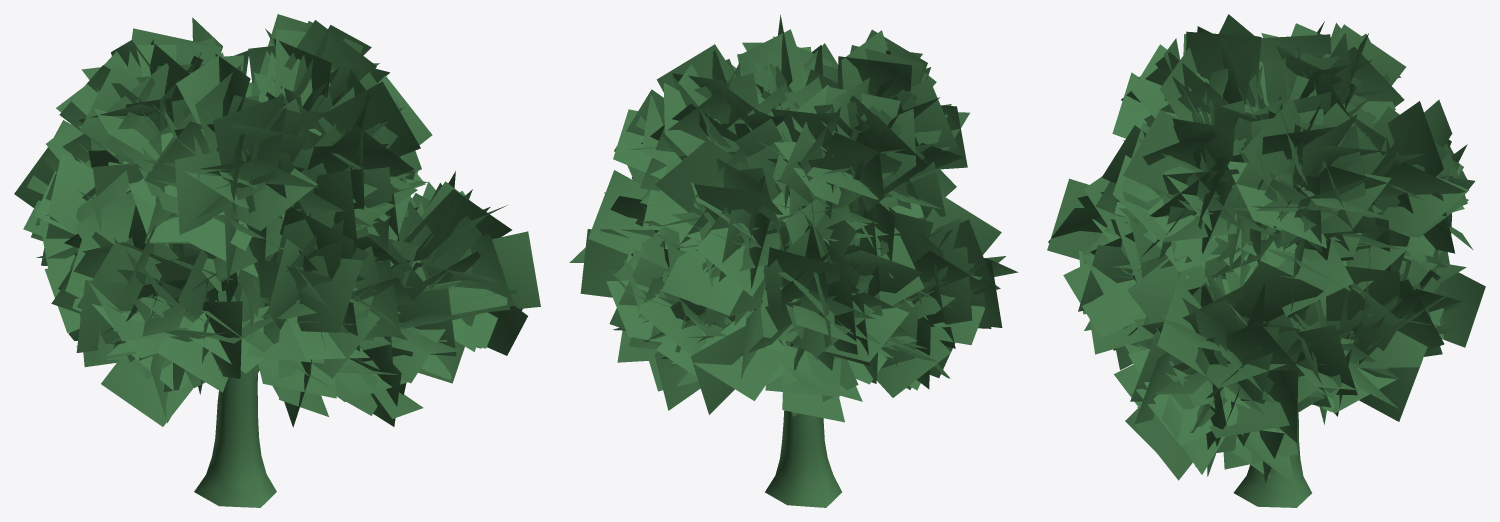
File: Tree_07.fbx
The picture shows the model from 3 angles, left to right: view 1: azimuth 30°, elevation 25°; view 2: azimuth 150°, elevation 25°; view 3: azimuth 270°, elevation 25°; orthographic projection. The views are drawn at different scales.
Parts seen in each view (by area): view 1: Tree_7_1; view 2: Tree_7_1; view 3: Tree_7_1.
Part boxes in pixels (left/top/right/bottom): Tree_7_1: left=14, top=14, right=540, bottom=507; Tree_7_1: left=569, top=15, right=1018, bottom=507; Tree_7_1: left=1047, top=14, right=1485, bottom=507.
Bounding box in the file's own units: 449 × 449 × 401.
